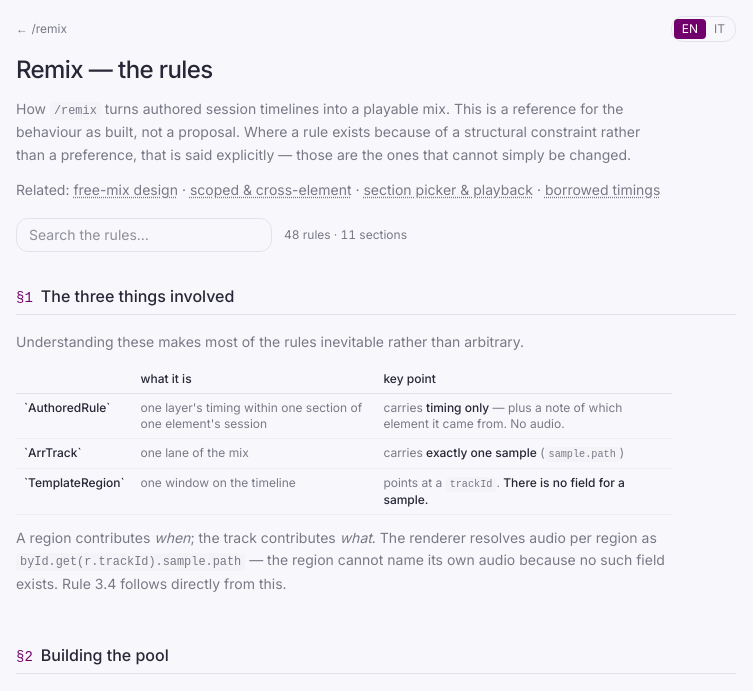
RulebookPage › filters to matching rules and counts them
Type "whole loops" into the search field labelled "Search the rules…" at {"x": 144, "y": 235}, box [16,218,272,252]
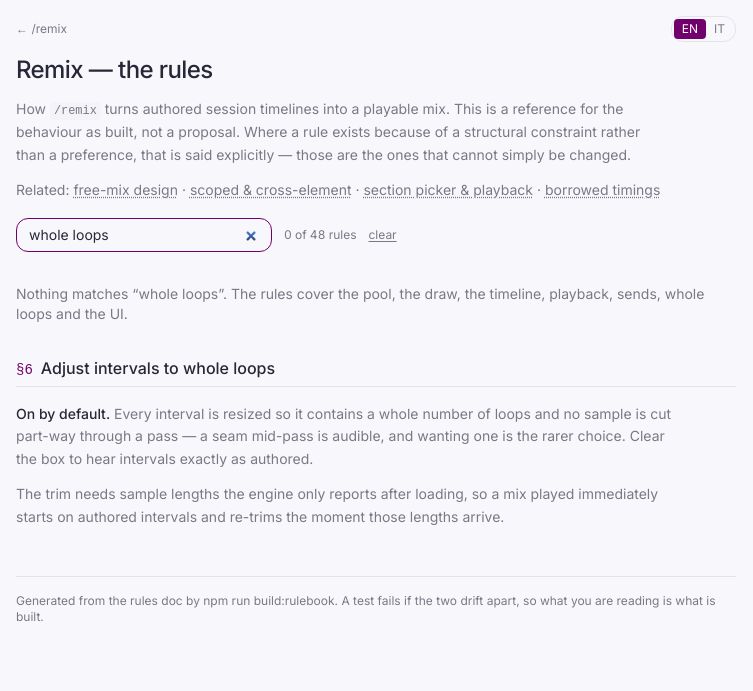
Result: the text "0 of 48 rules" is shown at [284,227,356,243]
